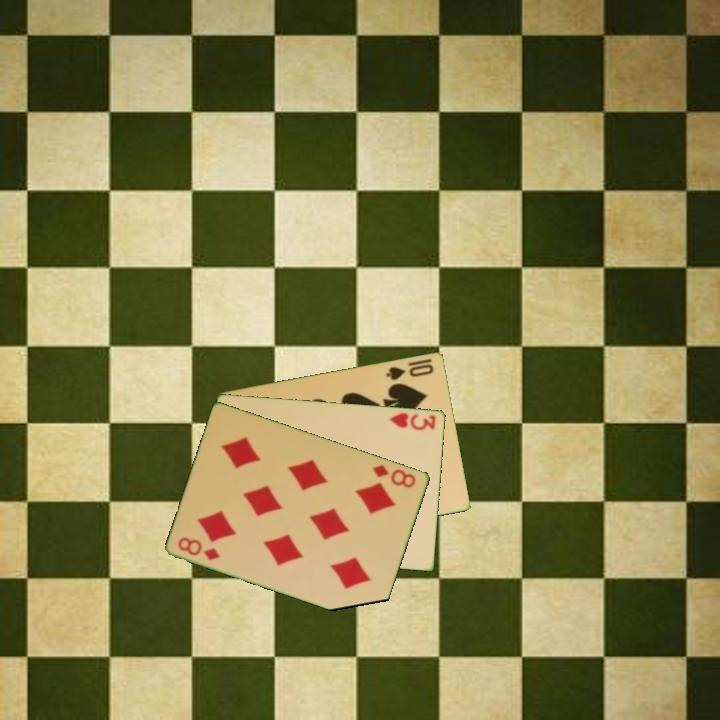10s: (383, 360, 436, 383)
3h: (386, 409, 439, 433)
8d: (369, 461, 419, 491), (175, 533, 223, 563)
